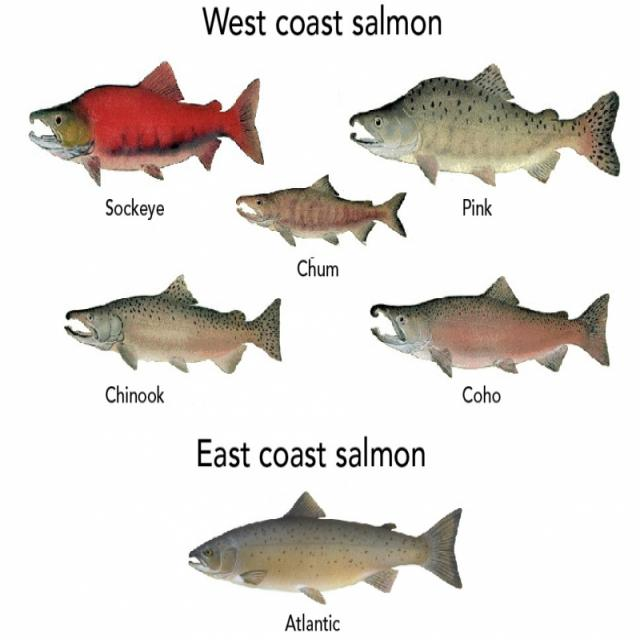salmon: (340, 48, 634, 208), (180, 486, 482, 610), (13, 59, 273, 200), (363, 270, 626, 388), (46, 266, 286, 390), (225, 171, 417, 261)
